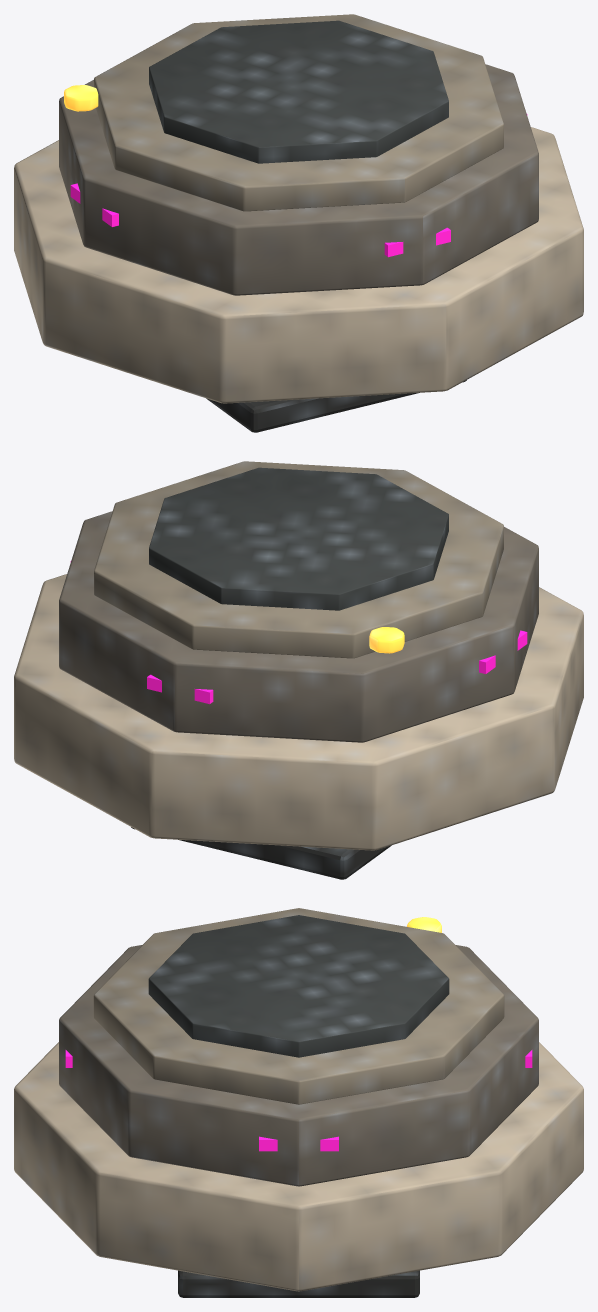
The model's file is rocketturret.glb.
3 renders of one model, top to bottom at view 1: azimuth 30°, elevation 25°; view 2: azimuth 150°, elevation 25°; view 3: azimuth 270°, elevation 25°, orthographic. The views are drawn at different scales.
Visible parts, largest first — view 1: Sandwar3D; view 2: Sandwar3D; view 3: Sandwar3D.
Part boxes in pixels (left/top/right/bottom): Sandwar3D: left=14, top=14, right=583, bottom=432; Sandwar3D: left=14, top=461, right=583, bottom=879; Sandwar3D: left=14, top=908, right=583, bottom=1297.
Bounding box in the file's own units: 1.14 × 0.595 × 1.14.
Materials: 10 (9 with a texture image).
